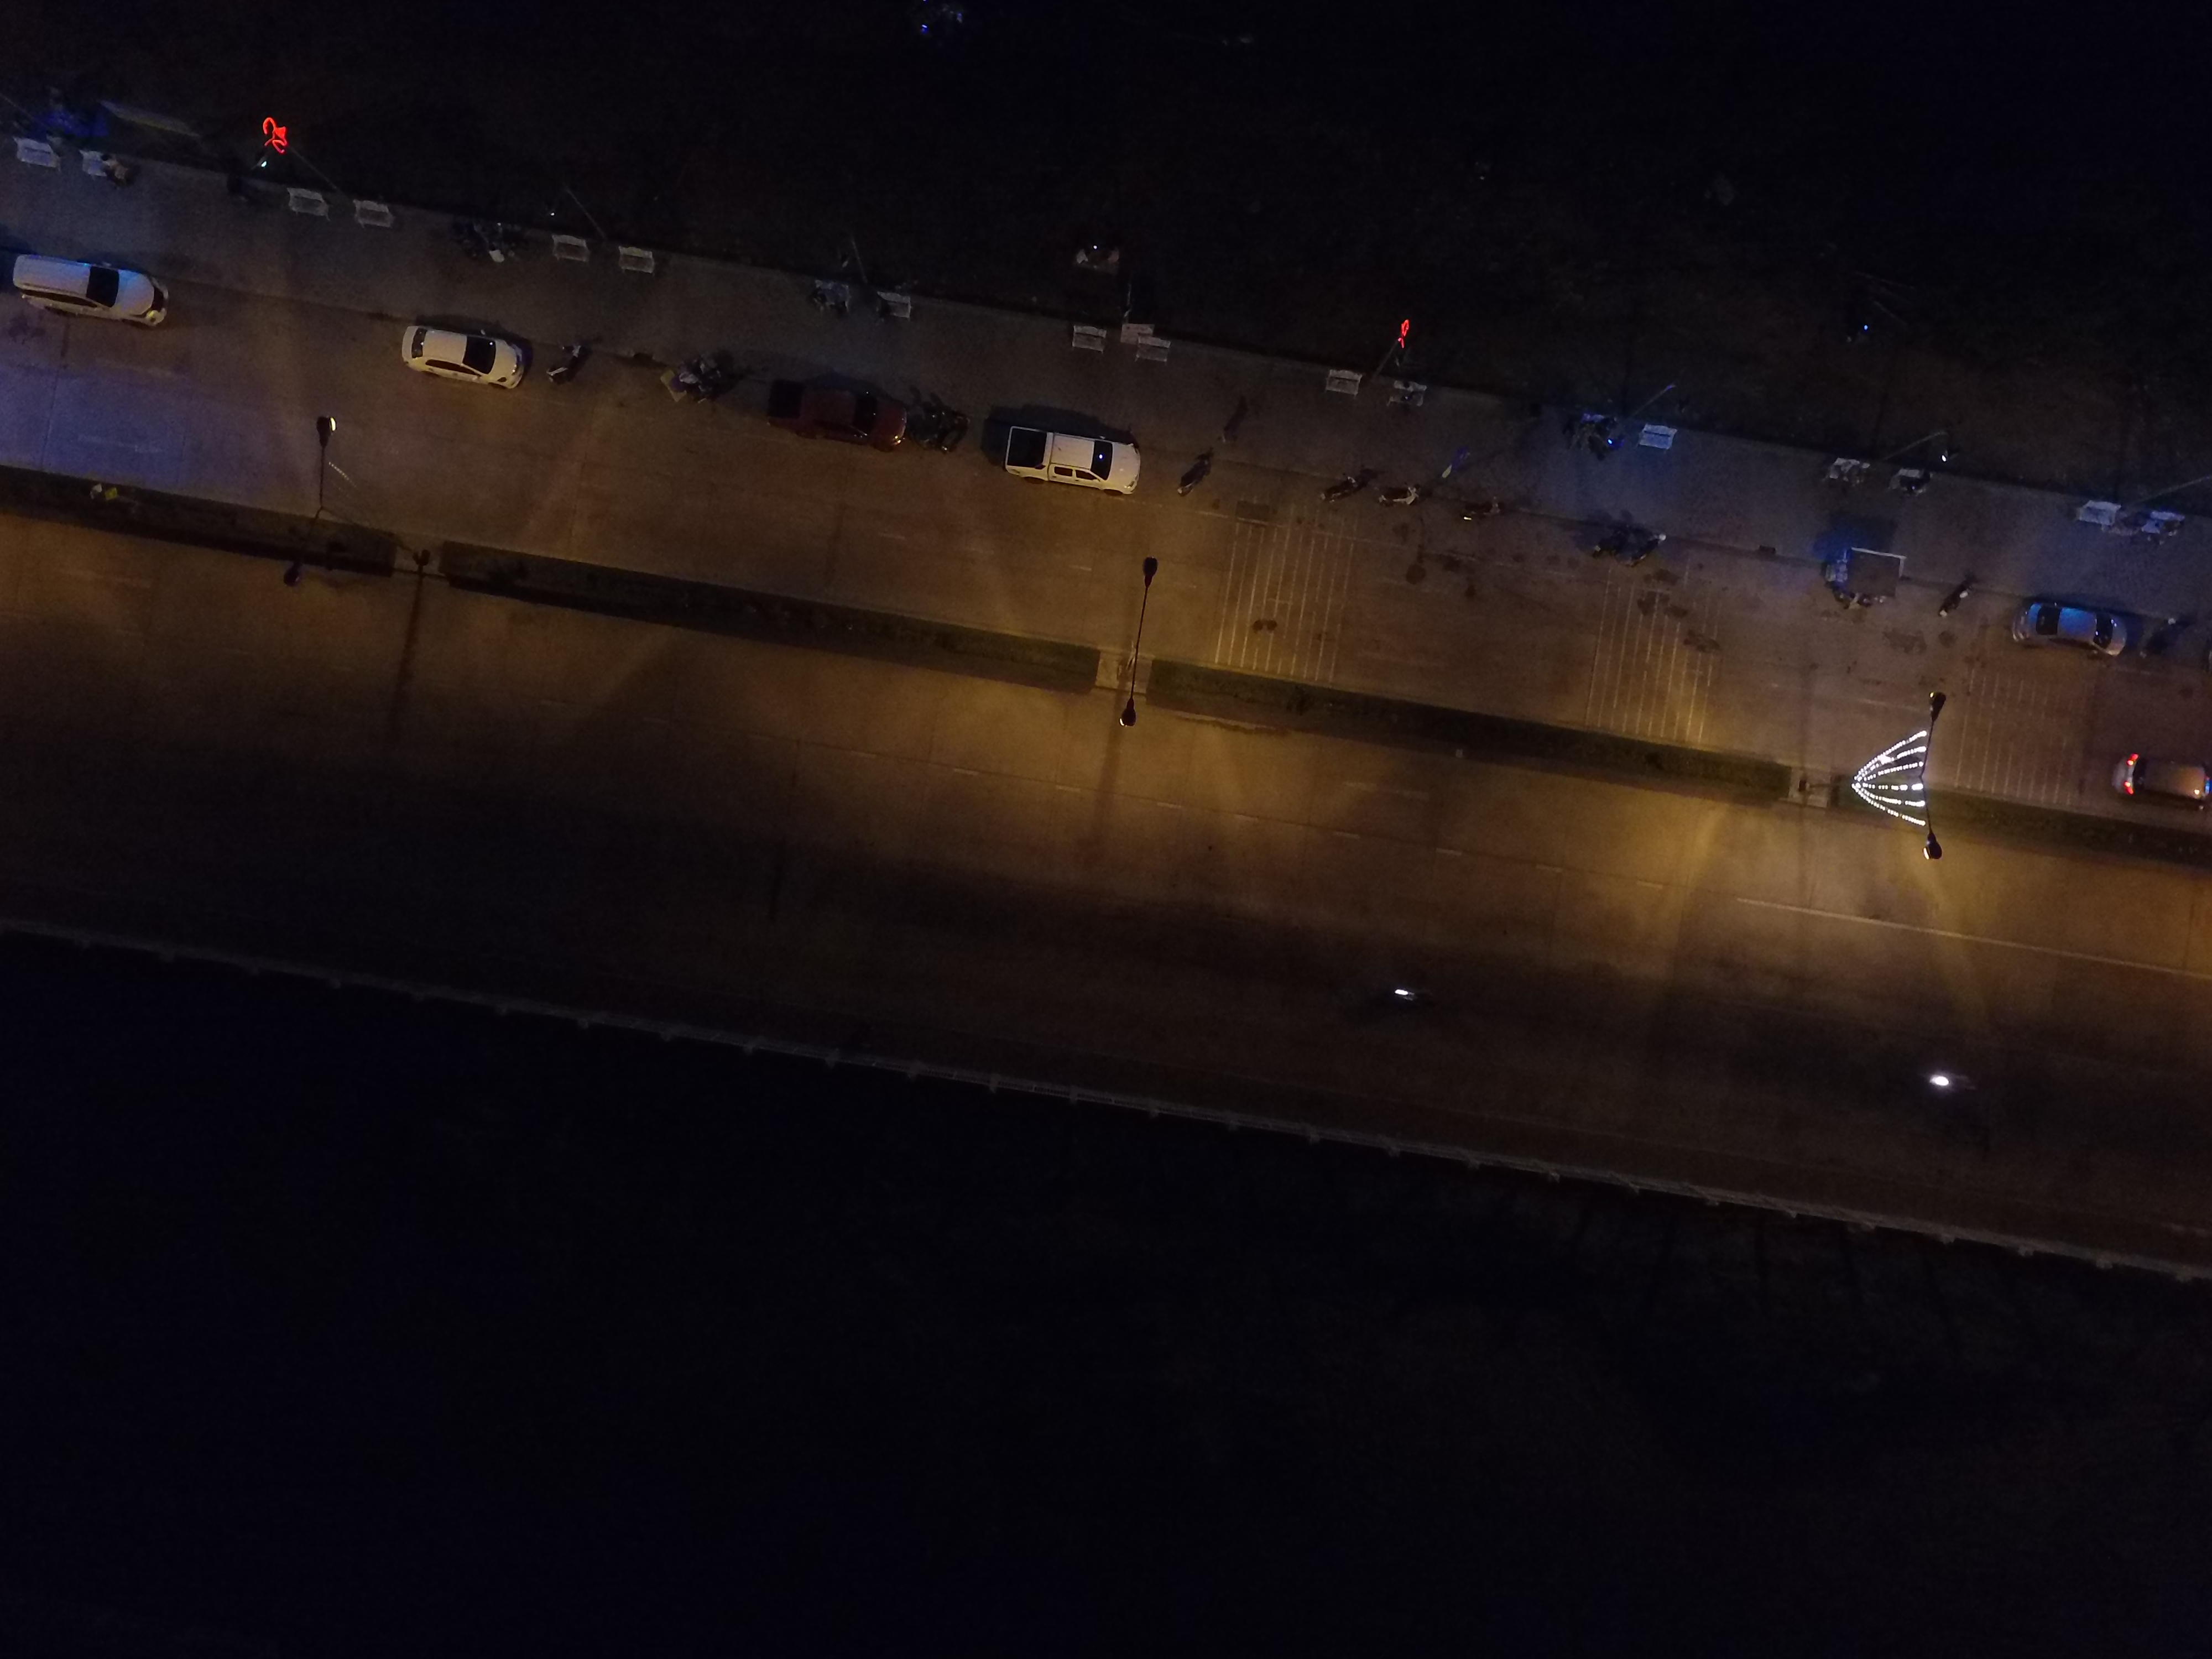car: (735, 376, 927, 462), (0, 254, 192, 338), (371, 317, 563, 401), (986, 418, 1177, 502), (1986, 601, 2177, 685), (2078, 737, 2212, 828)
